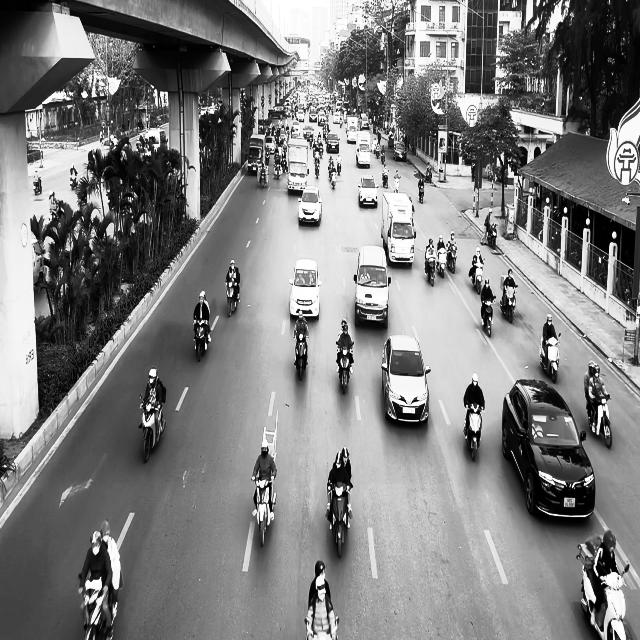car: (502, 378, 596, 520), (381, 332, 431, 424), (354, 245, 391, 328), (289, 258, 322, 319), (298, 185, 322, 226), (358, 175, 378, 208), (326, 132, 340, 153), (393, 141, 407, 161)
motorbike: (577, 544, 630, 640), (78, 575, 118, 639), (138, 389, 166, 463), (327, 480, 353, 558), (252, 472, 277, 546), (587, 394, 612, 448), (464, 404, 484, 461), (540, 332, 562, 383), (336, 340, 354, 394), (304, 615, 339, 640), (194, 317, 212, 362), (294, 327, 309, 381), (500, 281, 517, 323), (481, 295, 496, 337), (226, 279, 240, 317), (471, 260, 485, 294), (425, 256, 436, 286), (447, 245, 458, 273), (437, 249, 447, 278), (487, 223, 497, 249), (34, 176, 42, 194), (382, 168, 389, 188), (418, 183, 425, 203), (330, 168, 337, 188), (394, 175, 400, 192)
truck: (381, 190, 416, 267)
